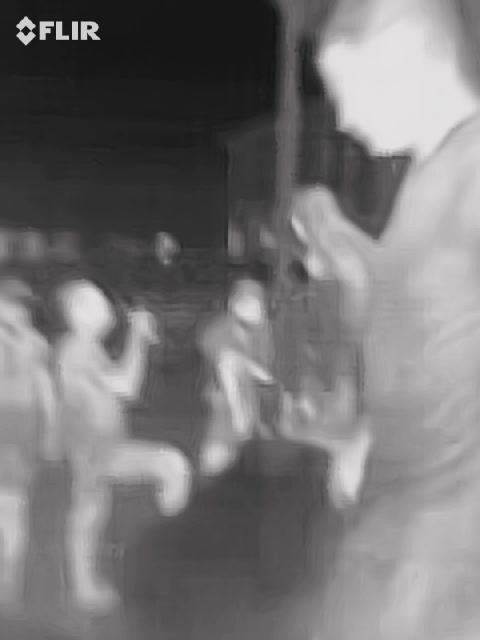head: (307, 8, 480, 160)
